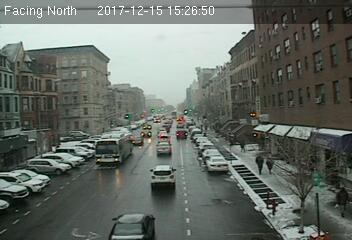bus: (94, 132, 133, 166)
car: (107, 213, 156, 240), (151, 166, 176, 189), (205, 156, 229, 172), (155, 142, 171, 154), (132, 134, 144, 145), (175, 130, 188, 139), (140, 129, 152, 138)
